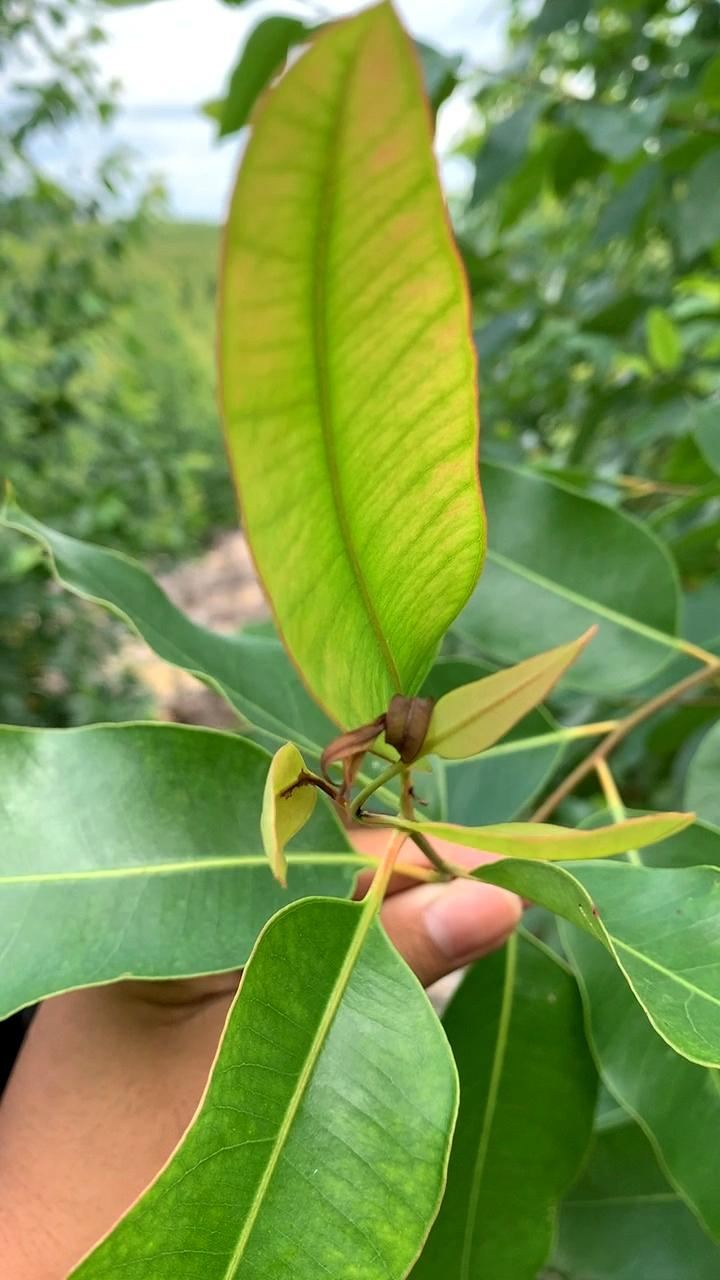Helopeltis-Withered Sprout: (311, 670, 456, 815)
